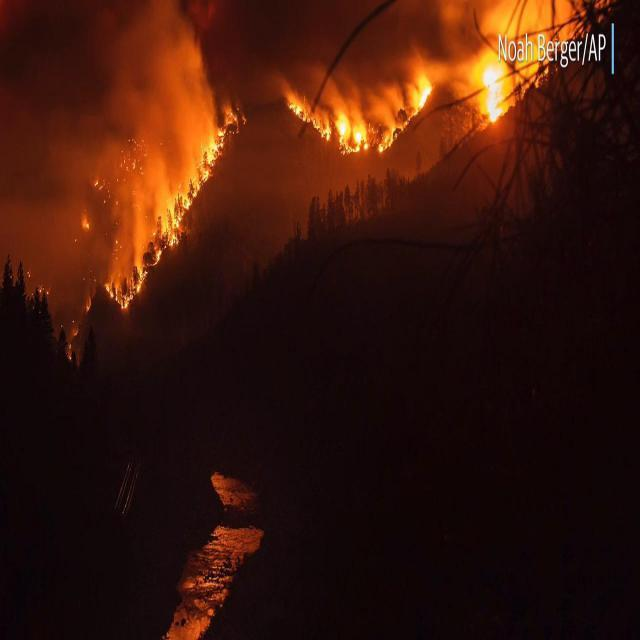Fire: (76, 99, 234, 313), (272, 44, 549, 153)
